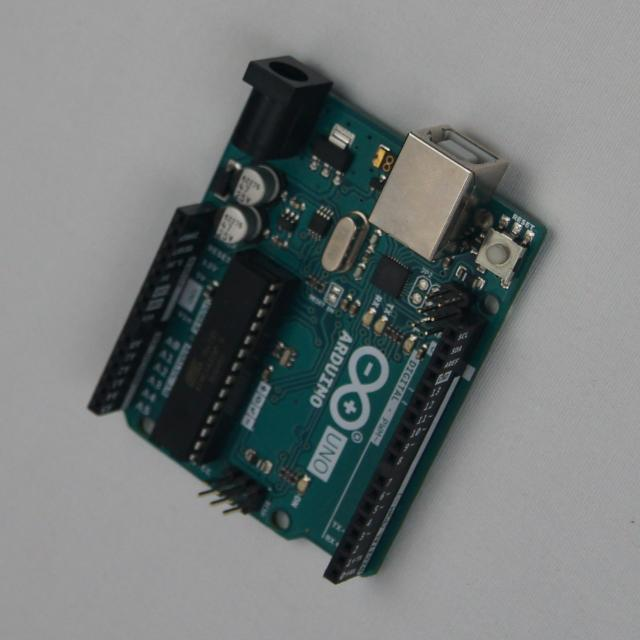Arduino Uno -Green-: (90, 57, 546, 584)
